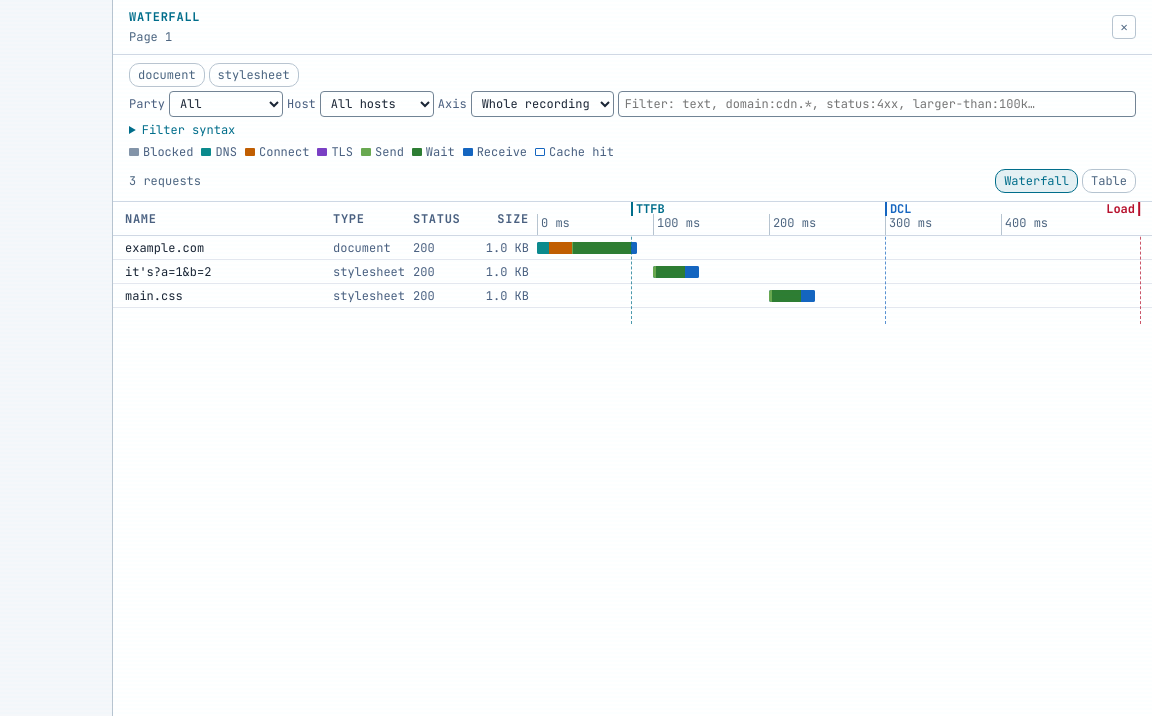
Test: WaterfallPanel: copying a request › says so when the clipboard refuses
The width and height of the screenshot is (1152, 716).
Click the button "main.css stylesheet 200 1.0 KB": (154,296) [113,284,1151,308]
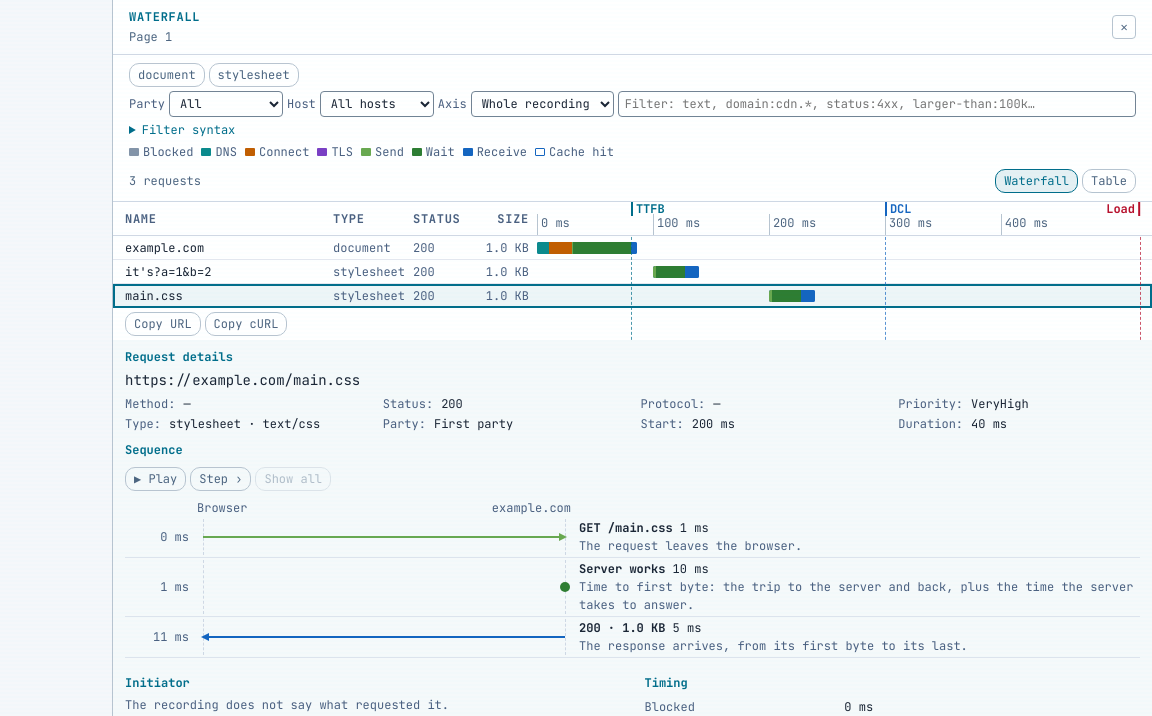
Click the button "Copy cURL": (246,324) [205,312,287,336]
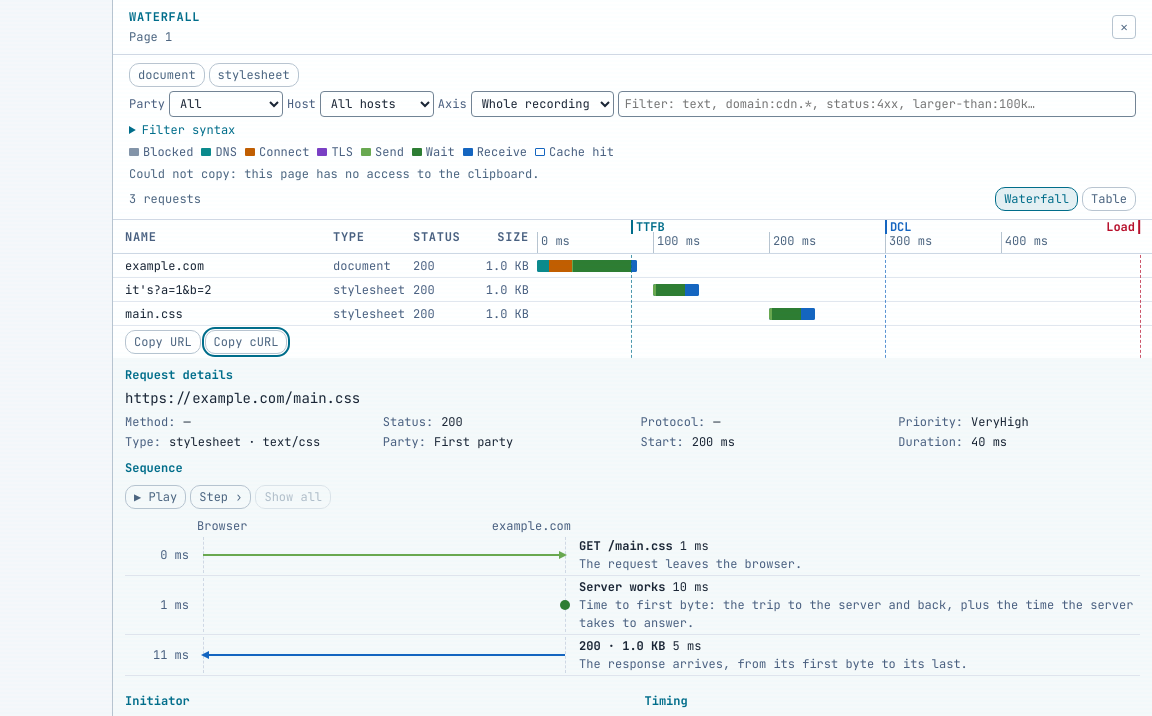
Now the text "Could not copy: this page has no access to the clipboard." is shown, box [129,166,539,182]
